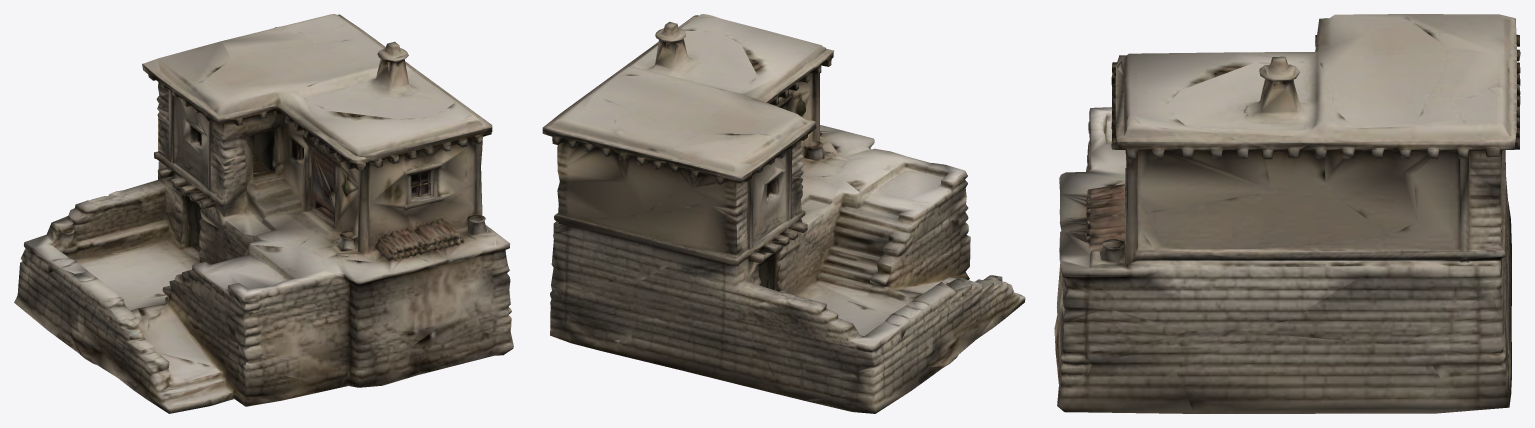
The model's file is house_09.glb.
3 views of the same model, side by side, from view 1: azimuth 30°, elevation 25°; view 2: azimuth 150°, elevation 25°; view 3: azimuth 270°, elevation 25° (orthographic). The views are drawn at different scales.
Parts seen in each view (by area): view 1: node_0; view 2: node_0; view 3: node_0.
Part boxes in pixels (x1,y1,x2,y2): node_0: (14, 14, 513, 413); node_0: (542, 14, 1025, 413); node_0: (1054, 14, 1520, 413).
Size of the model in its own units: 0.7917 by 0.5792 by 0.737.
Materials: 1 (1 with a texture image).
